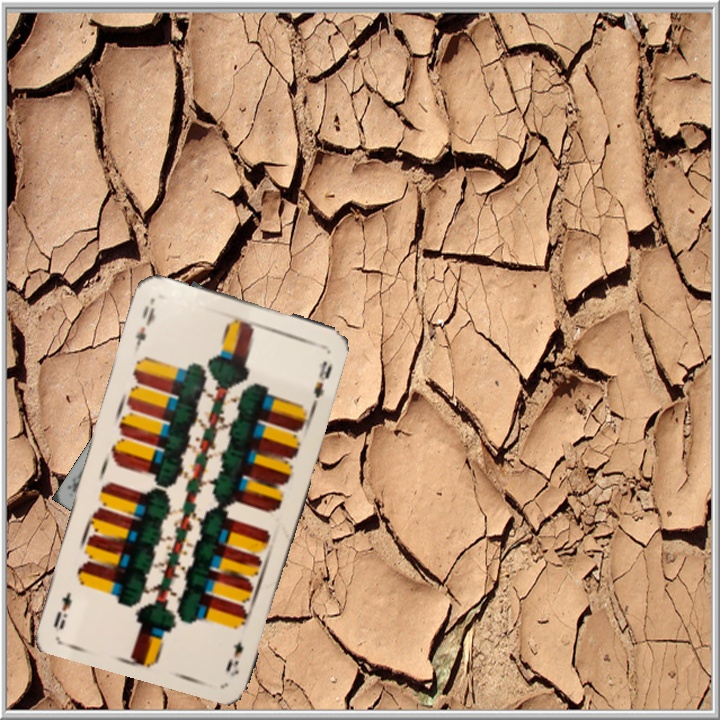E9: (130, 301, 158, 353), (223, 637, 246, 679)
